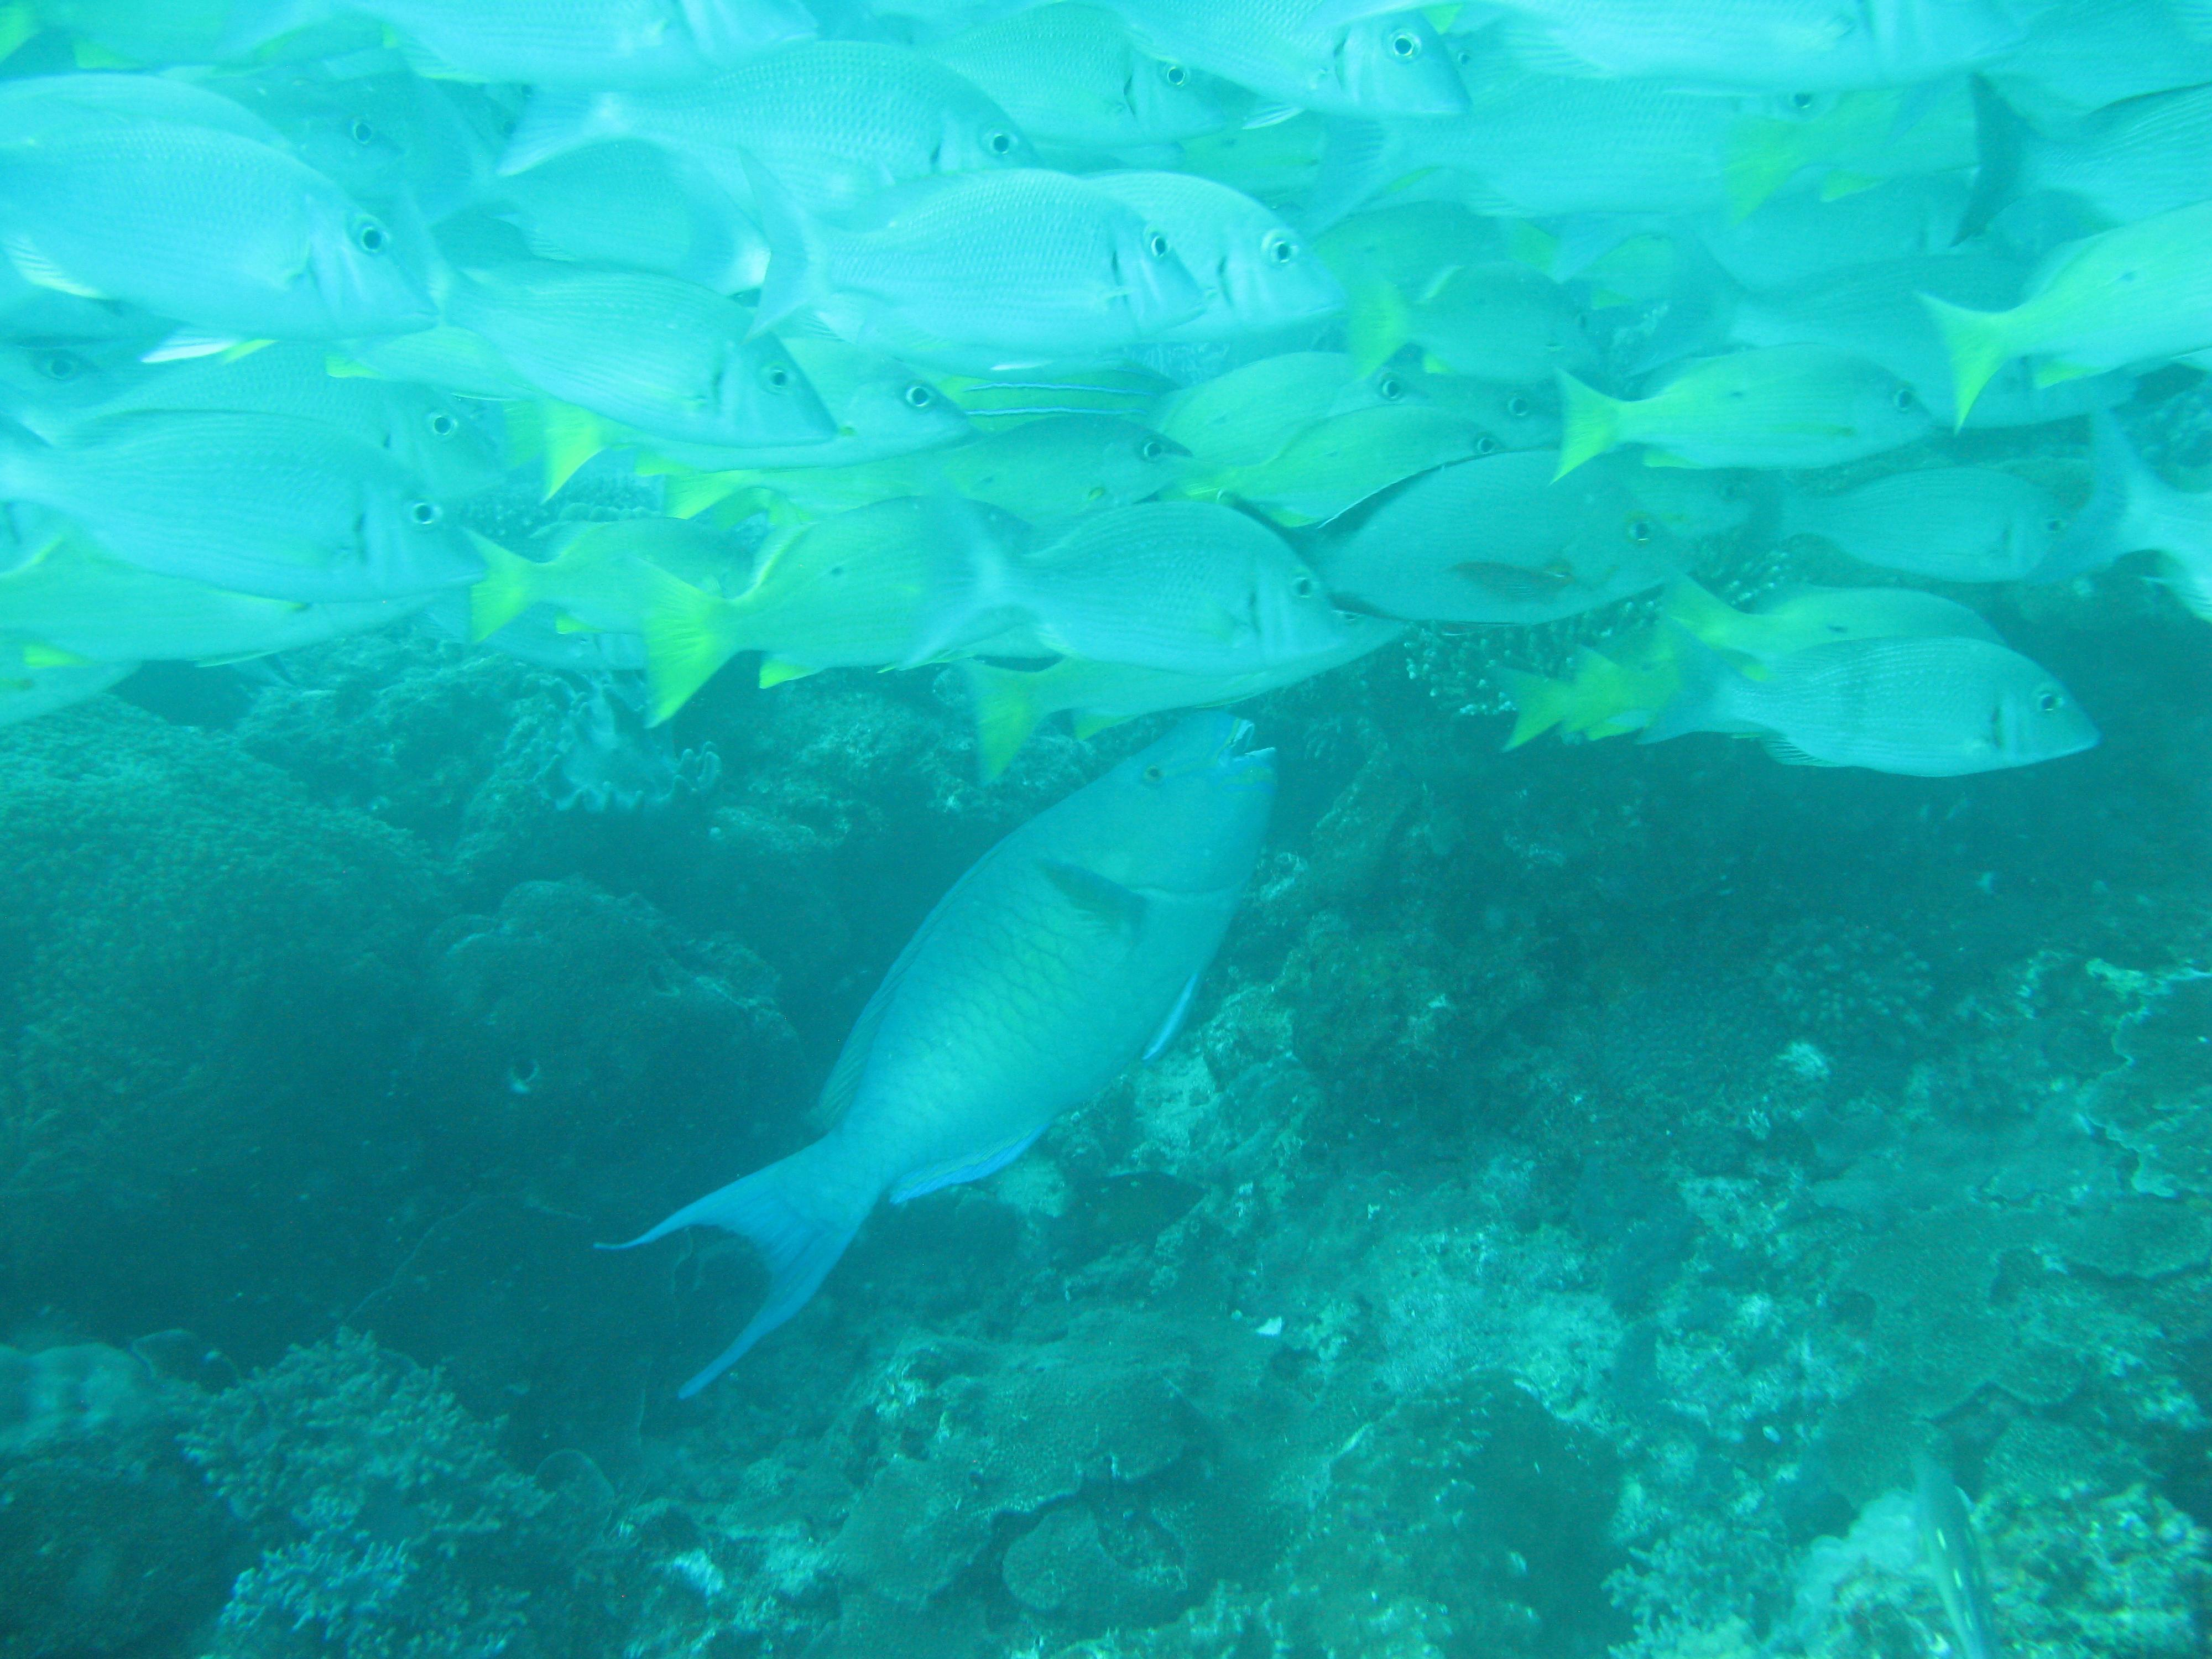Scarus rubroviolaceus: (540, 706, 1366, 1405)
